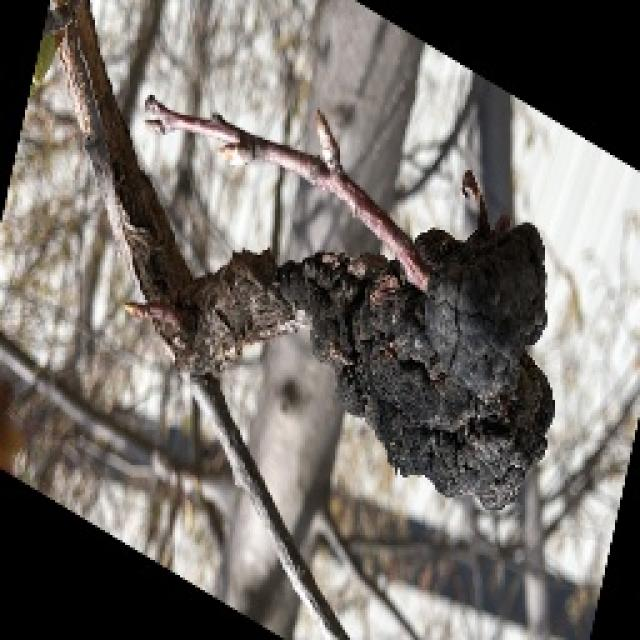Black_knot: (151, 166, 609, 527)
